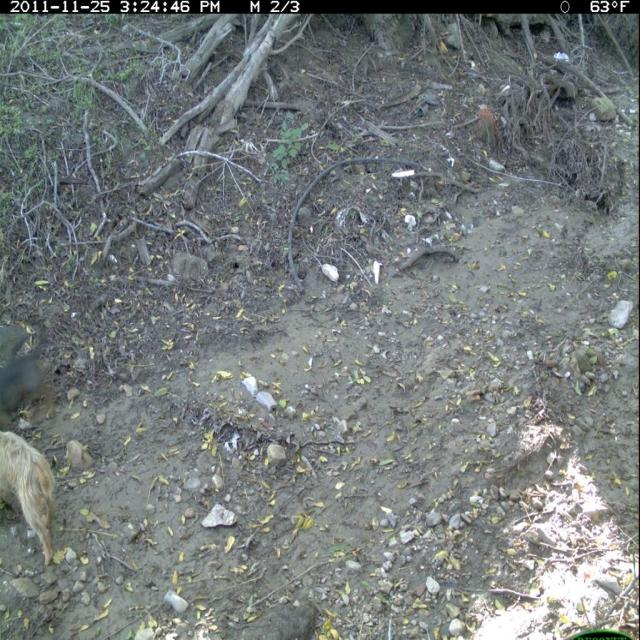dog: (1, 426, 65, 573)
